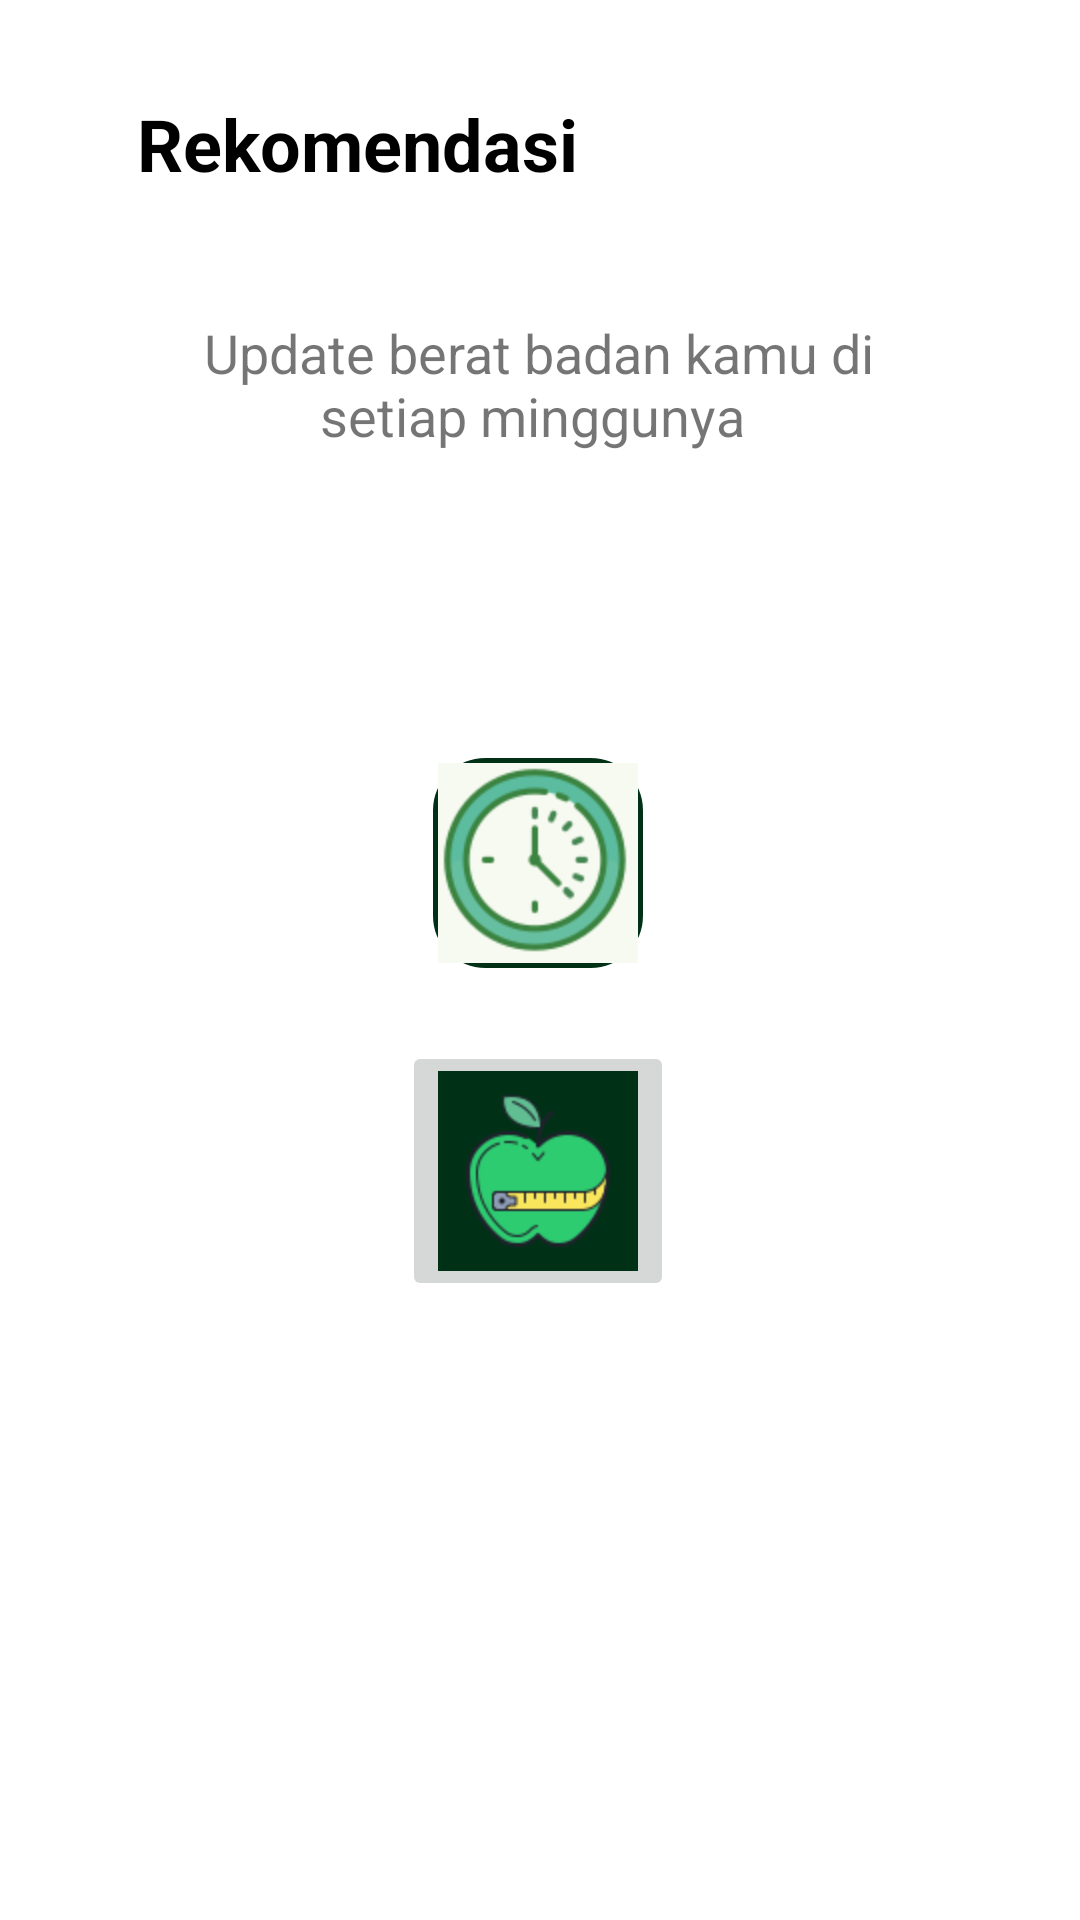

Locate icon controls on the screen. Image size 1080*1920, boxes as (x1, y1, x2, y2).
apple: (414, 1059, 662, 1283)
clock: (433, 758, 643, 968)
